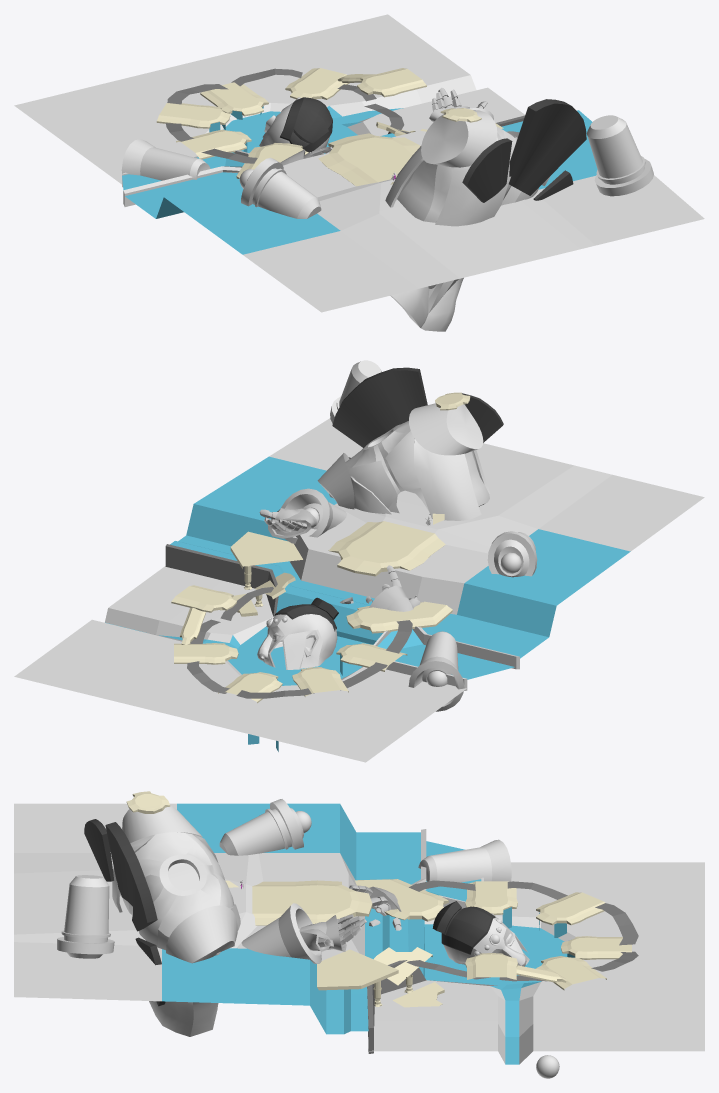
The model's file is environment_statue_Alex (1).fbx.
The picture shows the model from 3 angles, top to bottom: view 1: azimuth 30°, elevation 25°; view 2: azimuth 150°, elevation 25°; view 3: azimuth 270°, elevation 25°; orthographic projection. The views are drawn at different scales.
Visible parts, largest first — view 1: Plane_012, head_hair_039, head_hair_037, head_hair_036, Cylinder003_027, head_hair_038, head_hair_023, head_hair_041, head_hair_034, Cylinder003_034, Cylinder003_035, Cylinder003_033__1_ (+7 smaller); view 2: Plane_012, head_hair_039, head_hair_037, Cylinder003_027, head_hair_041, head_hair_038, Plane_013, Cylinder003_031, head_hair_034, Cylinder003_032, head_hair_023, head_hair_035 (+11 smaller); view 3: Plane_012, head_hair_039, Cylinder003_027, Cylinder003_031, head_hair_037, head_hair_041, head_hair_036, head_hair_023, head_hair_034, head_hair_035, Cylinder003_032, head_hair_038 (+13 smaller).
Boxes of the visible parts, bbox=[...] form: Plane_012: bbox=[14, 14, 704, 312]; head_hair_039: bbox=[385, 127, 550, 331]; head_hair_037: bbox=[462, 99, 586, 202]; head_hair_036: bbox=[586, 115, 653, 196]; Cylinder003_027: bbox=[318, 133, 420, 186]; head_hair_038: bbox=[421, 110, 497, 167]; head_hair_023: bbox=[239, 157, 321, 218]; head_hair_041: bbox=[259, 97, 332, 152]; head_hair_034: bbox=[121, 139, 210, 180]; Cylinder003_034: bbox=[156, 103, 230, 128]; Cylinder003_035: bbox=[200, 82, 268, 116]; Cylinder003_033__1_: bbox=[357, 68, 426, 97]; Plane_012: bbox=[14, 418, 704, 762]; head_hair_039: bbox=[317, 421, 490, 520]; head_hair_037: bbox=[332, 367, 503, 458]; Cylinder003_027: bbox=[328, 521, 445, 576]; head_hair_041: bbox=[257, 597, 338, 669]; head_hair_038: bbox=[409, 403, 483, 455]; Plane_013: bbox=[165, 544, 278, 616]; Cylinder003_031: bbox=[220, 531, 302, 616]; head_hair_034: bbox=[408, 631, 464, 711]; Cylinder003_032: bbox=[346, 601, 452, 633]; head_hair_023: bbox=[487, 531, 537, 577]; head_hair_035: bbox=[281, 488, 346, 543]; Plane_012: bbox=[14, 803, 704, 1064]; head_hair_039: bbox=[112, 832, 240, 1036]; Cylinder003_027: bbox=[252, 880, 372, 925]; Cylinder003_031: bbox=[317, 947, 444, 1007]; head_hair_037: bbox=[84, 819, 165, 1006]; head_hair_041: bbox=[432, 901, 529, 966]; head_hair_036: bbox=[57, 875, 114, 958]; head_hair_023: bbox=[219, 799, 311, 855]; head_hair_034: bbox=[418, 839, 511, 882]; head_hair_035: bbox=[241, 903, 321, 963]; Cylinder003_032: bbox=[355, 879, 448, 921]; head_hair_038: bbox=[122, 806, 202, 843].
Bounding box in the file's own units: 7476 × 4130 × 10798.
